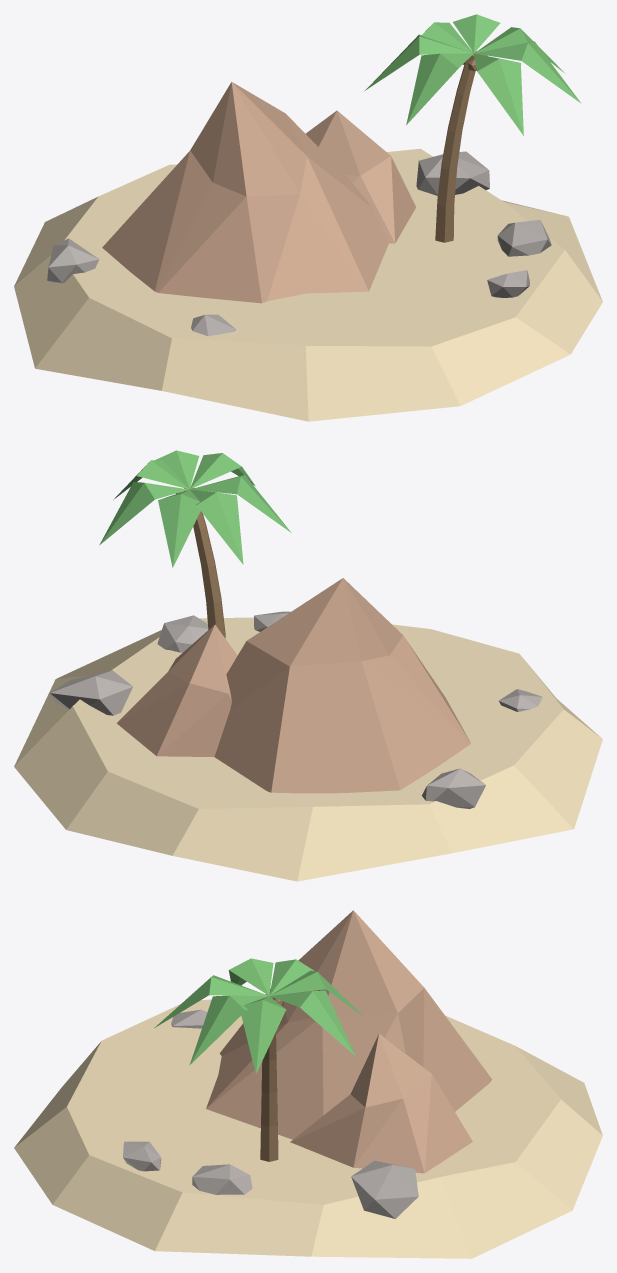
The model's file is island.fbx.
The picture shows the model from 3 angles, top to bottom: view 1: azimuth 30°, elevation 25°; view 2: azimuth 150°, elevation 25°; view 3: azimuth 270°, elevation 25°; orthographic projection. The views are drawn at different scales.
Visible parts, largest first — view 1: Island_Base, Mountain_Big, Palm_Leaves, Mountain_Small, Palm_Trunk, Rock_5, Rock_1, Rock_4, Rock_3, Rock_2; view 2: Island_Base, Mountain_Big, Mountain_Small, Palm_Leaves, Rock_5, Palm_Trunk, Rock_4, Rock_1, Rock_2; view 3: Island_Base, Mountain_Big, Mountain_Small, Palm_Leaves, Rock_5, Palm_Trunk, Rock_1, Rock_3, Rock_2.
Part boxes in pixels (x1,y1,x2,y2): Island_Base: (14,148,602,421); Mountain_Big: (102,82,388,303); Palm_Leaves: (365,14,581,135); Mountain_Small: (305,110,415,243); Palm_Trunk: (435,51,479,242); Rock_5: (416,151,489,195); Rock_1: (497,220,551,256); Rock_4: (47,238,99,283); Rock_3: (487,270,529,297); Rock_2: (191,314,235,336); Island_Base: (14,617,602,881); Mountain_Big: (214,578,470,793); Mountain_Small: (116,624,237,756); Palm_Leaves: (99,450,291,567); Rock_5: (50,670,132,715); Palm_Trunk: (184,488,225,638); Rock_4: (422,768,485,808); Rock_1: (157,615,208,652); Rock_2: (499,689,542,711); Island_Base: (14,999,602,1258); Mountain_Big: (206,910,492,1139); Mountain_Small: (290,1034,472,1173); Palm_Leaves: (154,958,363,1073); Rock_5: (351,1160,418,1218); Palm_Trunk: (260,993,278,1161); Rock_1: (192,1164,252,1194); Rock_3: (123,1141,161,1171); Rock_2: (171,1009,207,1028).
Size of the model in its own units: 815 by 362 by 790.
